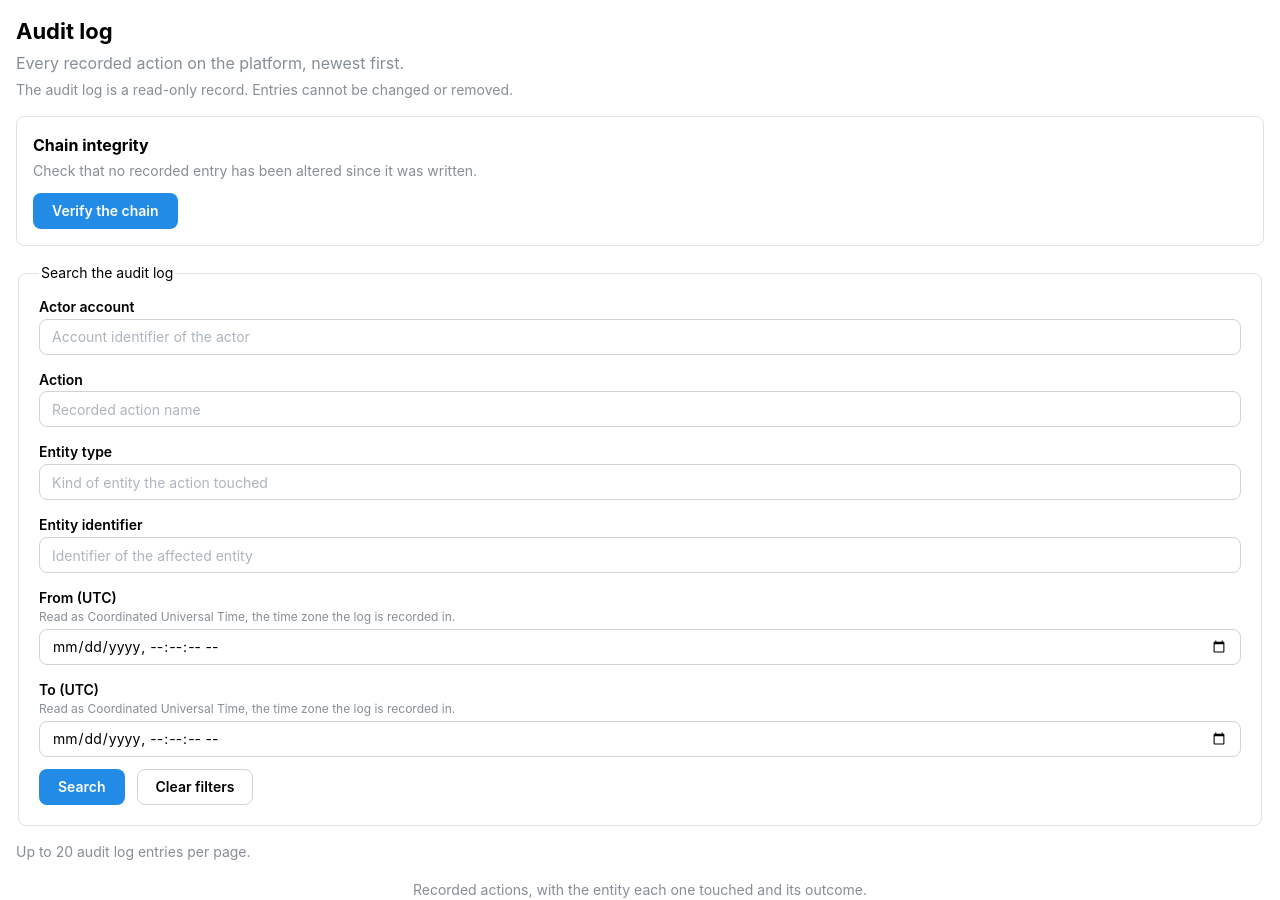
Test: chain verification (Req 17 AC6, AC7) › renders the error state with a retry control when the verification fails
Click the button with test id "audit-chain-verify-run" at coordinates (105, 211), box [33,193,178,229]
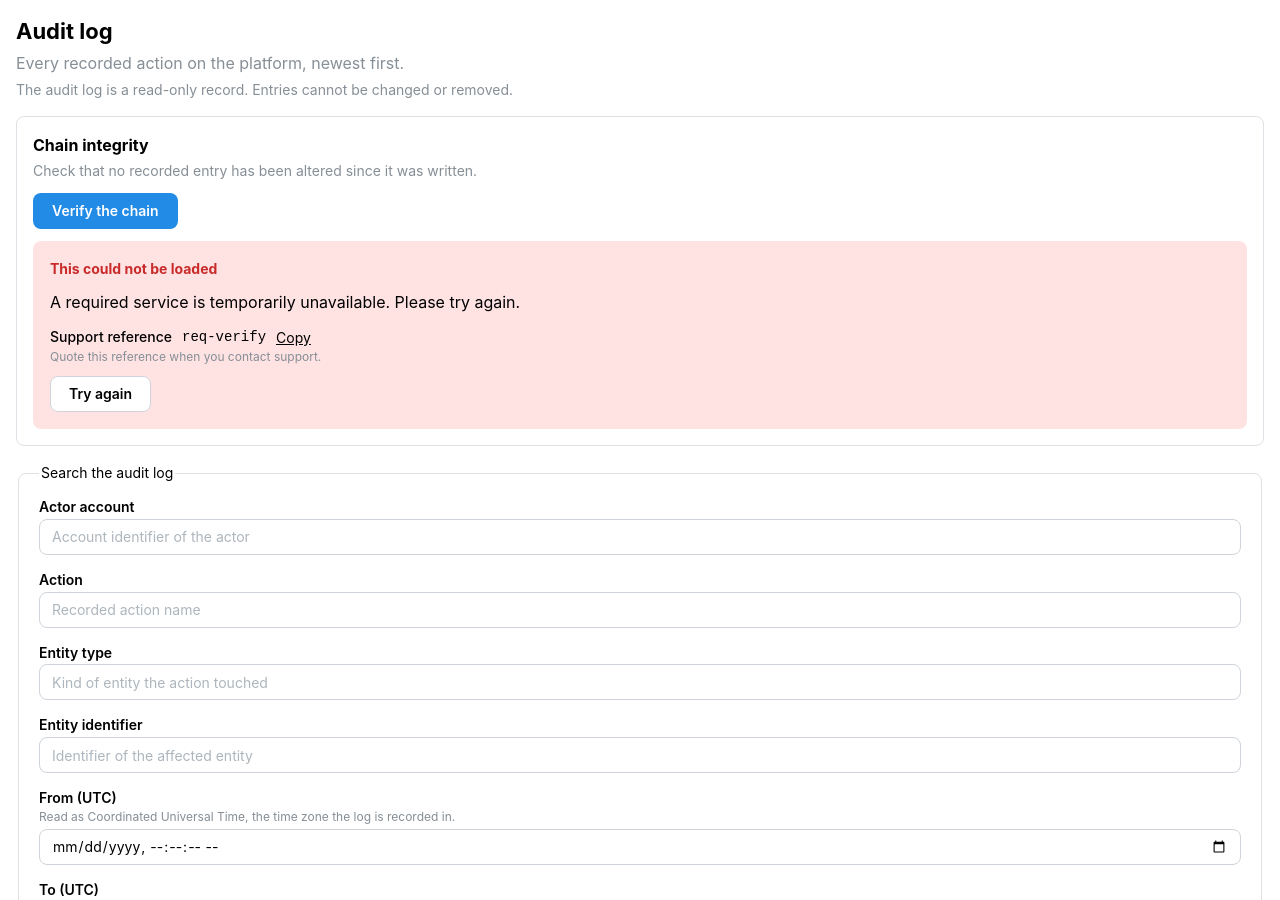
Expected: the message with test id "error-state" is shown, [33,241,1247,429]
Expected: the button with test id "error-retry" is shown, [50,376,151,412]
